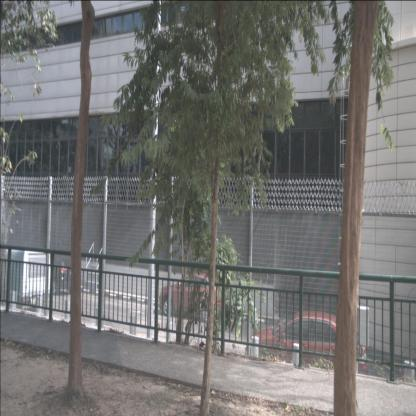vehicle-car: (245, 310, 369, 380), (158, 272, 230, 324), (1, 248, 49, 317), (29, 254, 77, 296)
